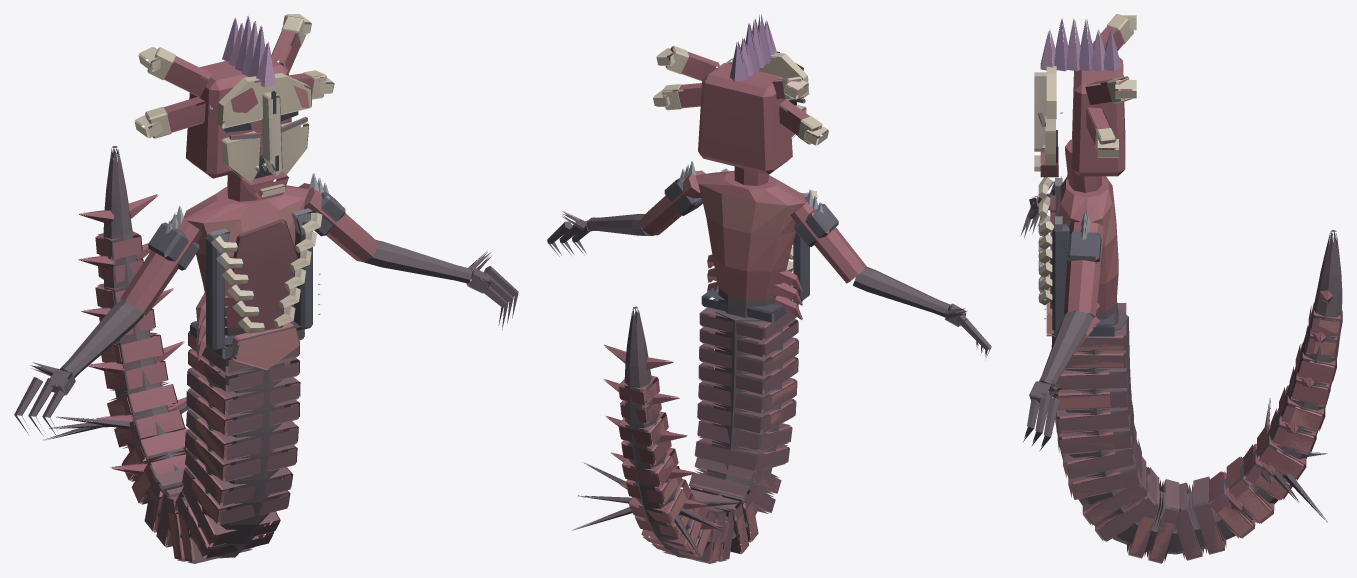
File: DredgePunk.glb
3 renders of one model, left to right at view 1: azimuth 30°, elevation 25°; view 2: azimuth 150°, elevation 25°; view 3: azimuth 270°, elevation 25°, orthographic. The views are drawn at different scales.
Parts seen in each view (by area): view 1: Body, Head, ArmR, ArmL; view 2: Body, Head, ArmR, ArmL; view 3: Body, Head, ArmL, ArmR.
Boxes of the visible parts, x1=… form: Body: x1=43, y1=146, x2=322, y2=563; Head: x1=134, y1=14, x2=334, y2=201; ArmR: x1=14, y1=206, x2=201, y2=435; ArmL: x1=298, y1=173, x2=518, y2=329; Body: x1=572, y1=168, x2=817, y2=563; Head: x1=653, y1=14, x2=828, y2=185; ArmR: x1=790, y1=189, x2=991, y2=357; ArmL: x1=547, y1=161, x2=705, y2=256; Body: x1=1038, y1=175, x2=1342, y2=563; Head: x1=1034, y1=14, x2=1136, y2=192; ArmL: x1=1023, y1=211, x2=1103, y2=451; ArmR: x1=1020, y1=174, x2=1067, y2=238.
Bounding box in the file's own units: 6.83 × 7.37 × 4.02.
